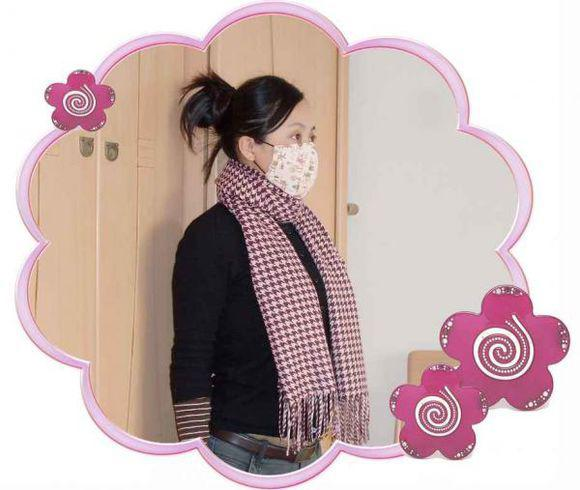OK: (244, 116, 321, 199)
